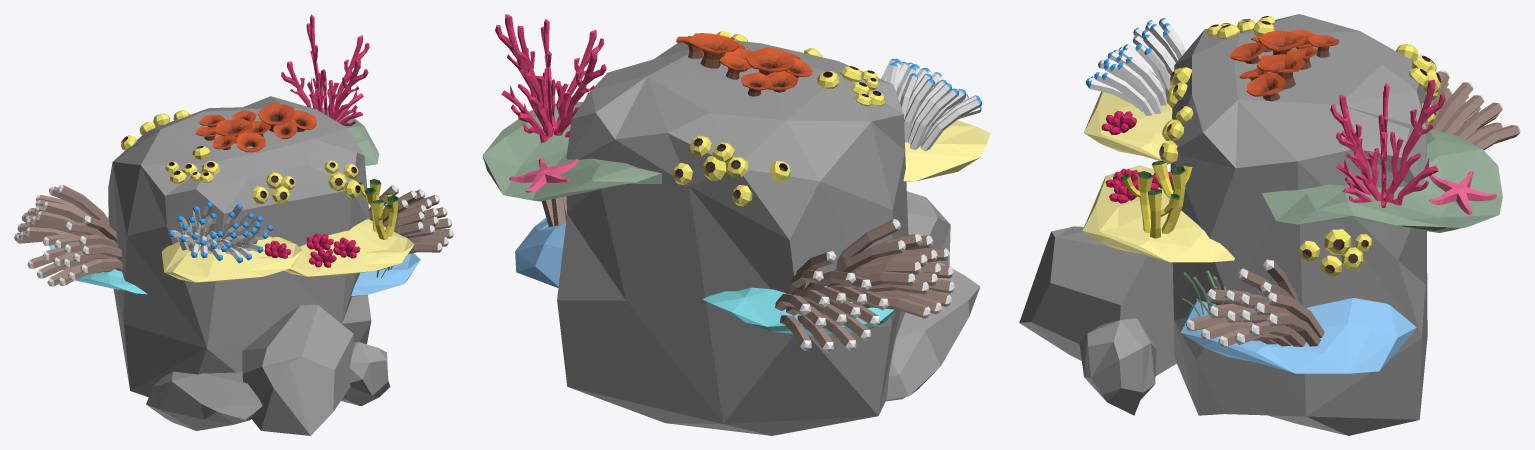
The model's file is CoralReef3.glb.
3 renders of one model, left to right at view 1: azimuth 30°, elevation 25°; view 2: azimuth 150°, elevation 25°; view 3: azimuth 270°, elevation 25°, orthographic. The views are drawn at different scales.
Visible parts, largest first — view 1: Coral_reef_016; view 2: Coral_reef_016; view 3: Coral_reef_016.
Boxes of the visible parts, x1,y1,x2,y2 form: Coral_reef_016: (14, 14, 453, 435); Coral_reef_016: (482, 14, 990, 435); Coral_reef_016: (1019, 14, 1520, 435).
Size of what is drawn, in the model's own units: 5.57 by 4.35 by 5.05.
1 material, 1 textured.
